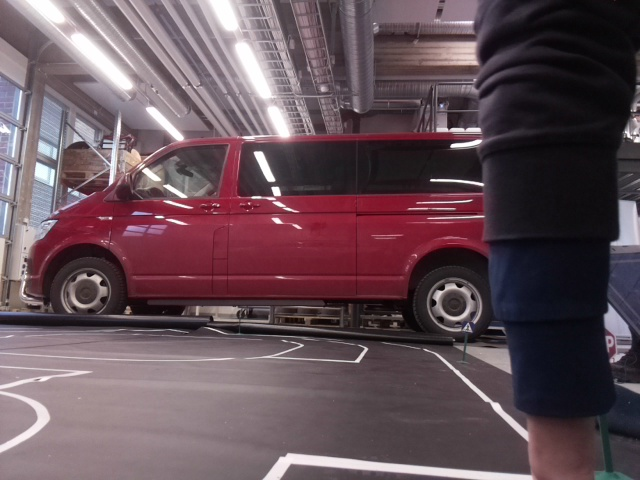Crosswalk: (462, 321, 473, 335)
